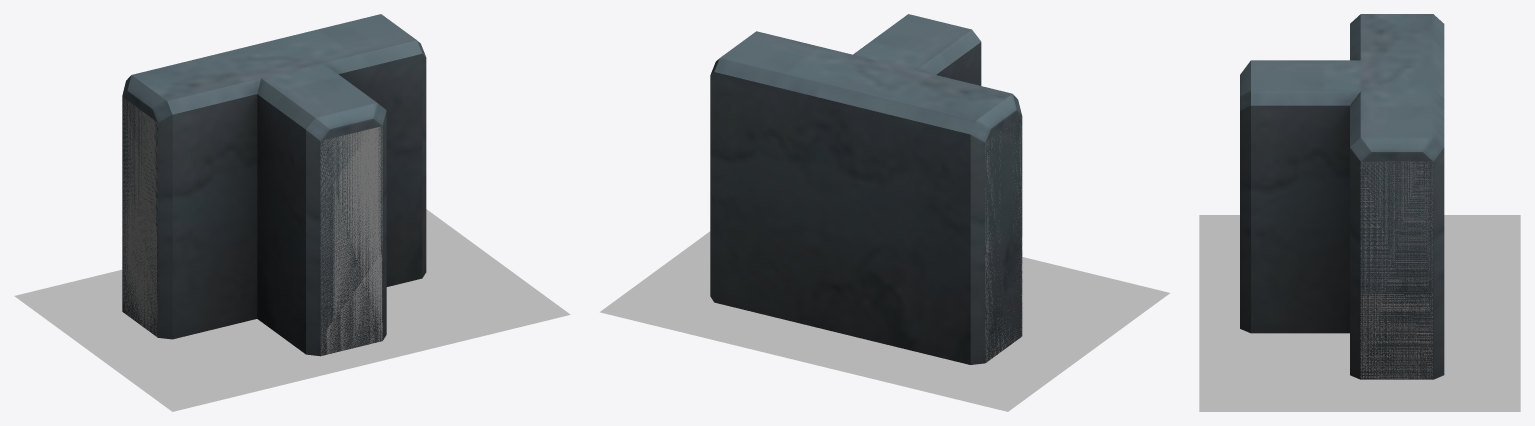
File: 1x1_stone_wall_t-section.FBX
3 views of the same model, side by side, from view 1: azimuth 30°, elevation 25°; view 2: azimuth 150°, elevation 25°; view 3: azimuth 270°, elevation 25° (orthographic). The views are drawn at different scales.
Parts seen in each view (by area): view 1: 1x1_stone_wall_t-section, 1x1_stone_wall_t-section_soft_shadow, 1x1_stone_wall_t-section_shadow_caster; view 2: 1x1_stone_wall_t-section, 1x1_stone_wall_t-section_soft_shadow, 1x1_stone_wall_t-section_shadow_caster; view 3: 1x1_stone_wall_t-section, 1x1_stone_wall_t-section_soft_shadow, 1x1_stone_wall_t-section_shadow_caster.
Boxes of the visible parts, x1=… form: 1x1_stone_wall_t-section: x1=122, y1=14, x2=426, y2=356; 1x1_stone_wall_t-section_soft_shadow: x1=14, y1=209, x2=570, y2=411; 1x1_stone_wall_t-section_shadow_caster: x1=122, y1=97, x2=382, y2=355; 1x1_stone_wall_t-section: x1=710, y1=14, x2=1022, y2=364; 1x1_stone_wall_t-section_soft_shadow: x1=600, y1=231, x2=1169, y2=411; 1x1_stone_wall_t-section_shadow_caster: x1=985, y1=117, x2=1022, y2=361; 1x1_stone_wall_t-section: x1=1240, y1=14, x2=1444, y2=379; 1x1_stone_wall_t-section_soft_shadow: x1=1199, y1=215, x2=1520, y2=411; 1x1_stone_wall_t-section_shadow_caster: x1=1360, y1=161, x2=1433, y2=379.
Size of the model in its own units: 1485 by 850 by 1023.
